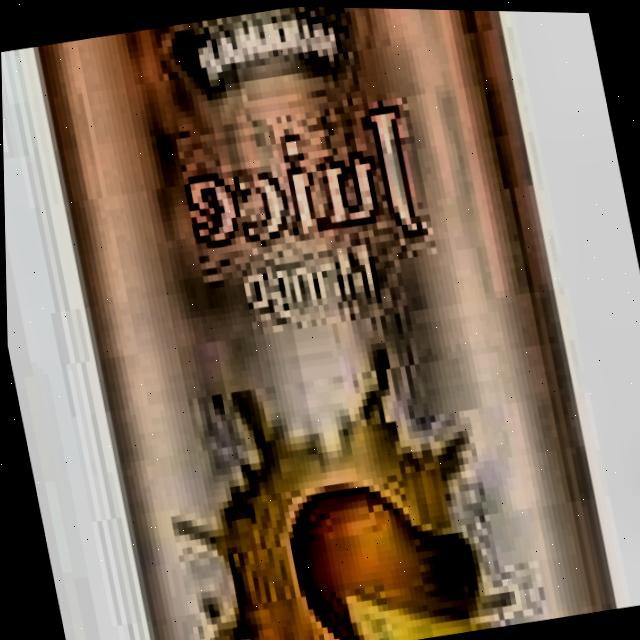metal: (12, 0, 638, 640)
